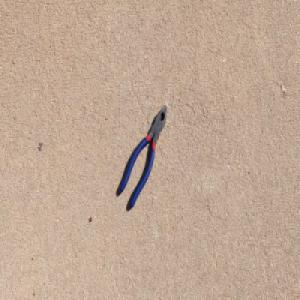Pliers: (118, 103, 168, 211)
